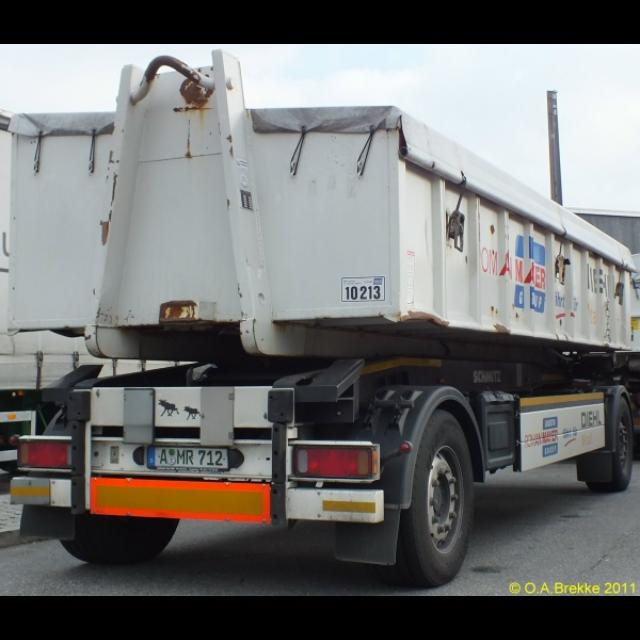d_license_plate: (146, 446, 228, 466)
